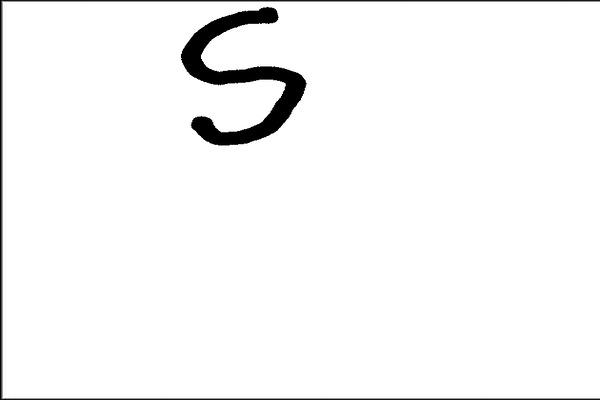S: (177, 3, 312, 149)
